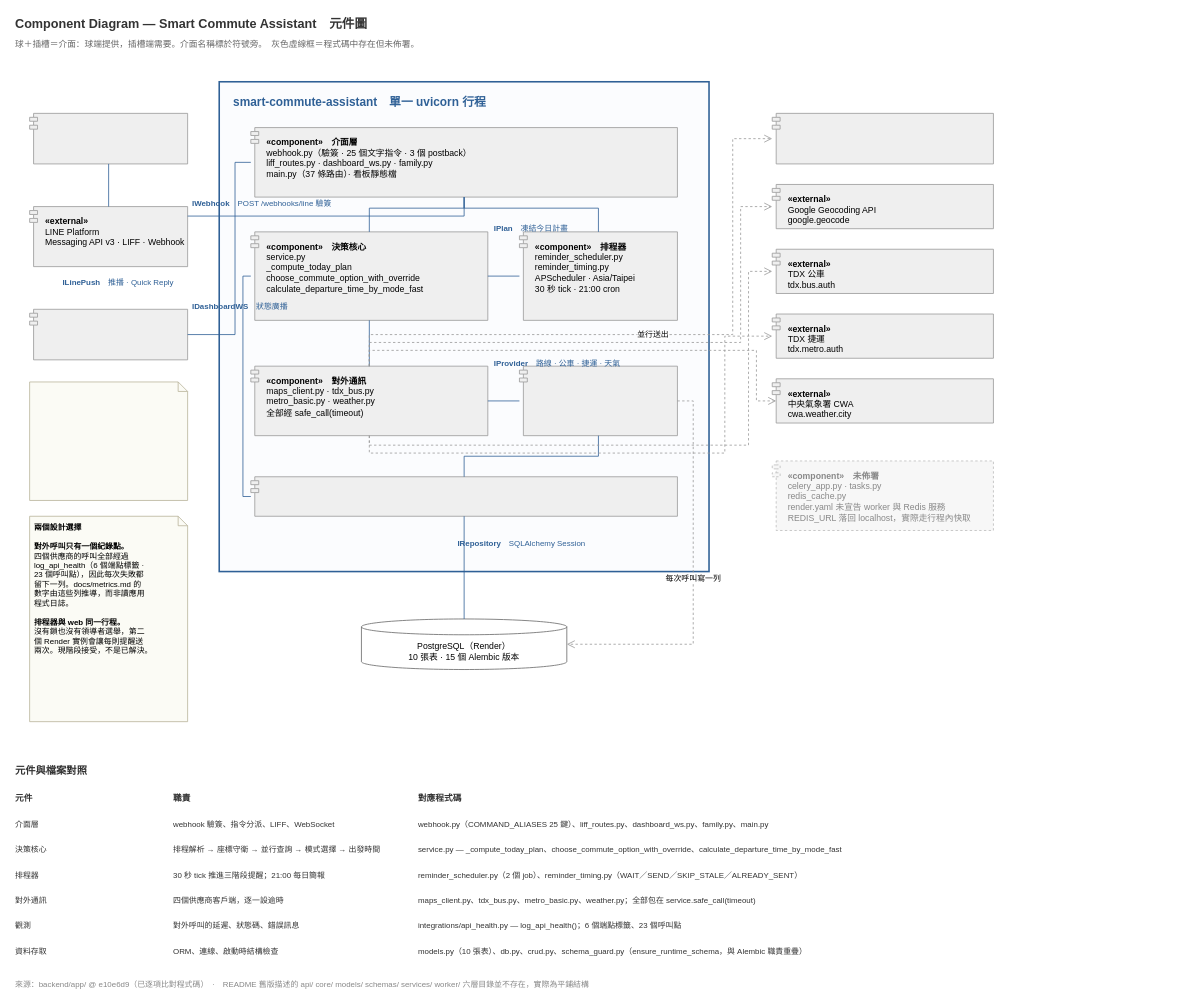
The diagram is 1188 pixels wide and 1005 high, and some of its shapes have lost their labels. The shapes that lost their labels are listed below. From the top down, each one's box as (x1, y1, x2, y2) in pixels, then its label:
(29, 113, 188, 164): «external» LINE 使用者端 文字指令 · Quick Reply
(771, 113, 993, 164): «external» Google Routes API google.routes.transit · walk
(29, 308, 188, 360): «external» 看板瀏覽器 WebSocket · 語音提示
(519, 365, 677, 436): «component» 觀測 integrations/ api_health.py 對外呼叫的唯一紀錄點
(29, 381, 188, 500): 圖例 «component» 元件（模組圖示） 實線 組裝連接器 灰虛線 依賴（外部呼叫） 灰虛線框 程式碼中存在但未佈署 來源檔名標於元件內。
(250, 476, 677, 516): «component» 資料存取 models.py · db.py · crud.py · schema_guard.py
